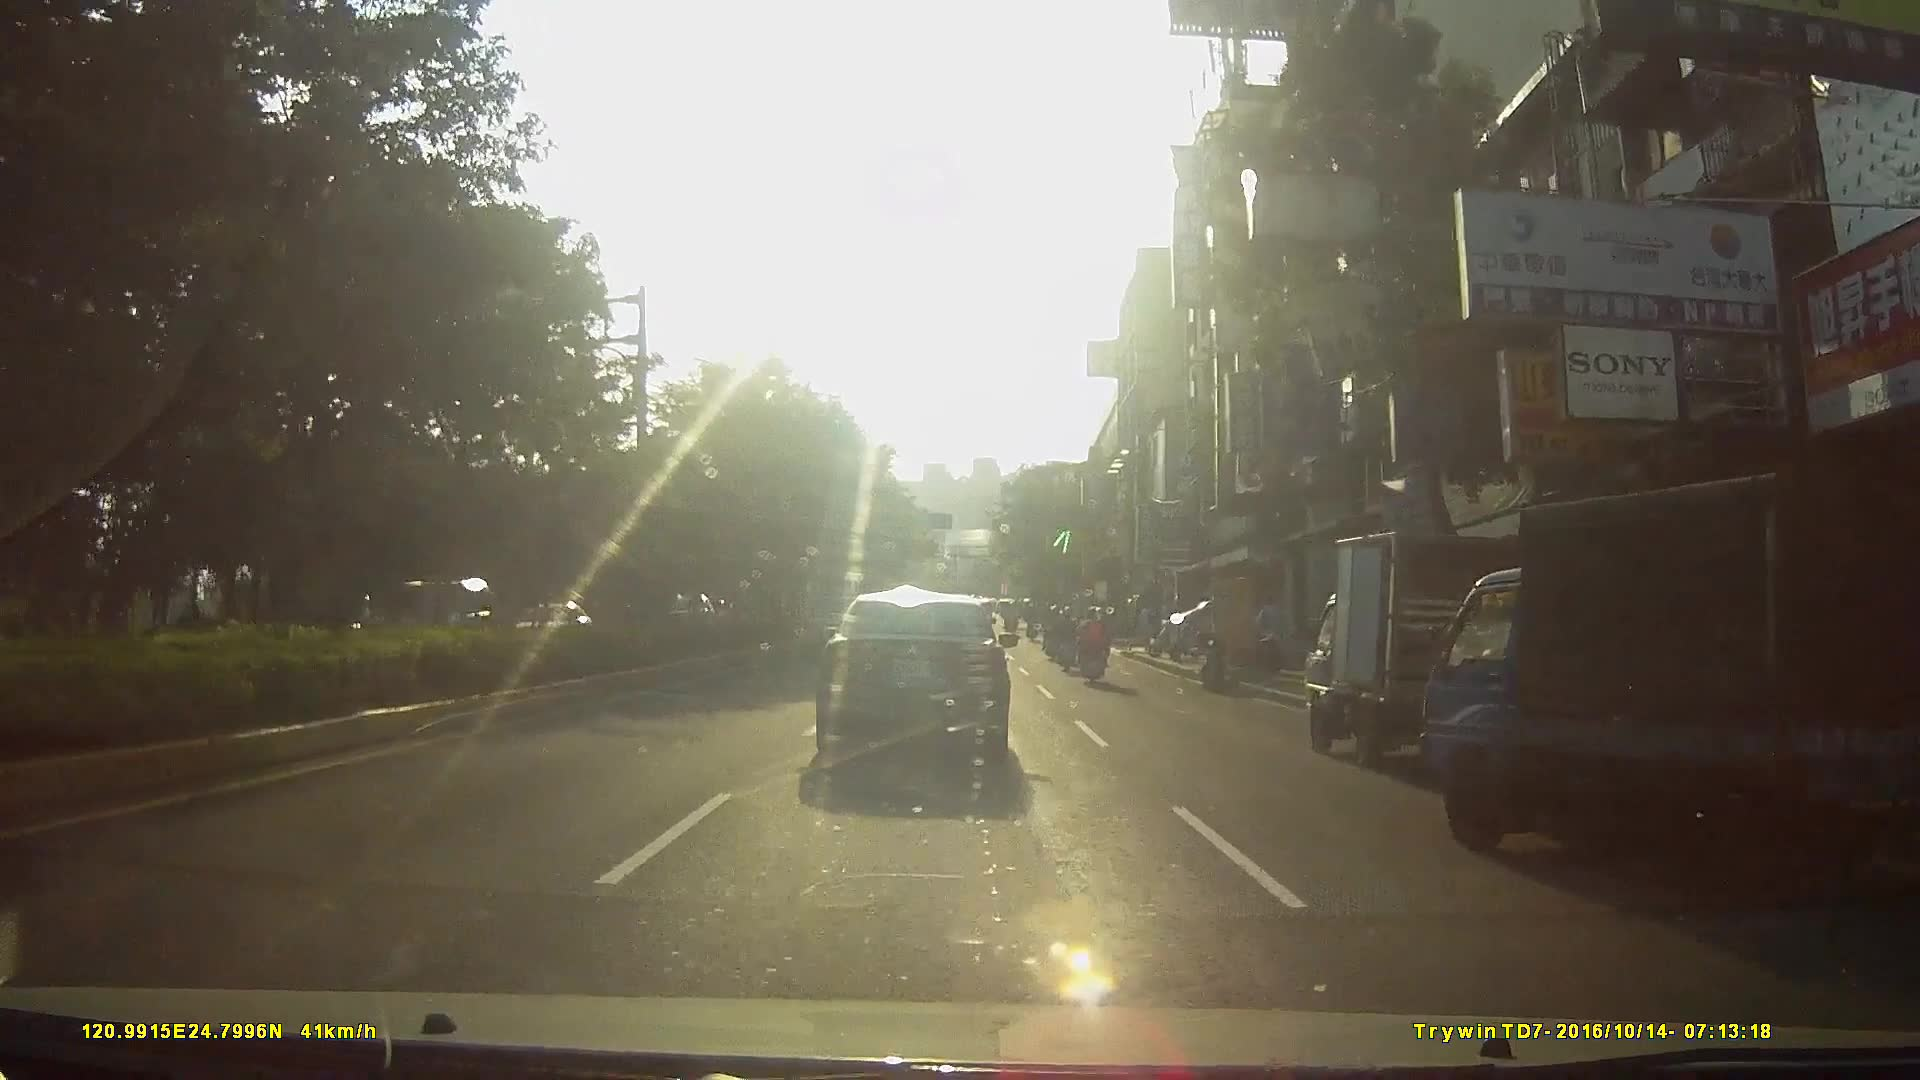rider: (1073, 607, 1114, 685), (1053, 605, 1081, 675), (1044, 606, 1064, 663)
vehicle: (1401, 460, 1920, 913), (1300, 517, 1579, 771), (811, 590, 1028, 787)
